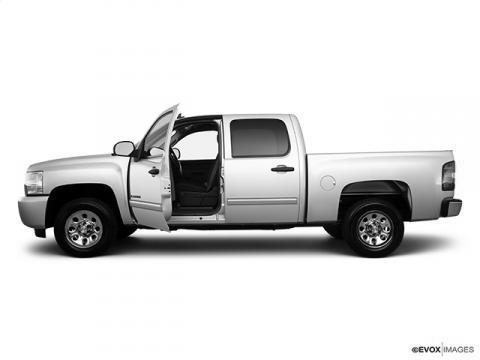car: (18, 102, 464, 260)
